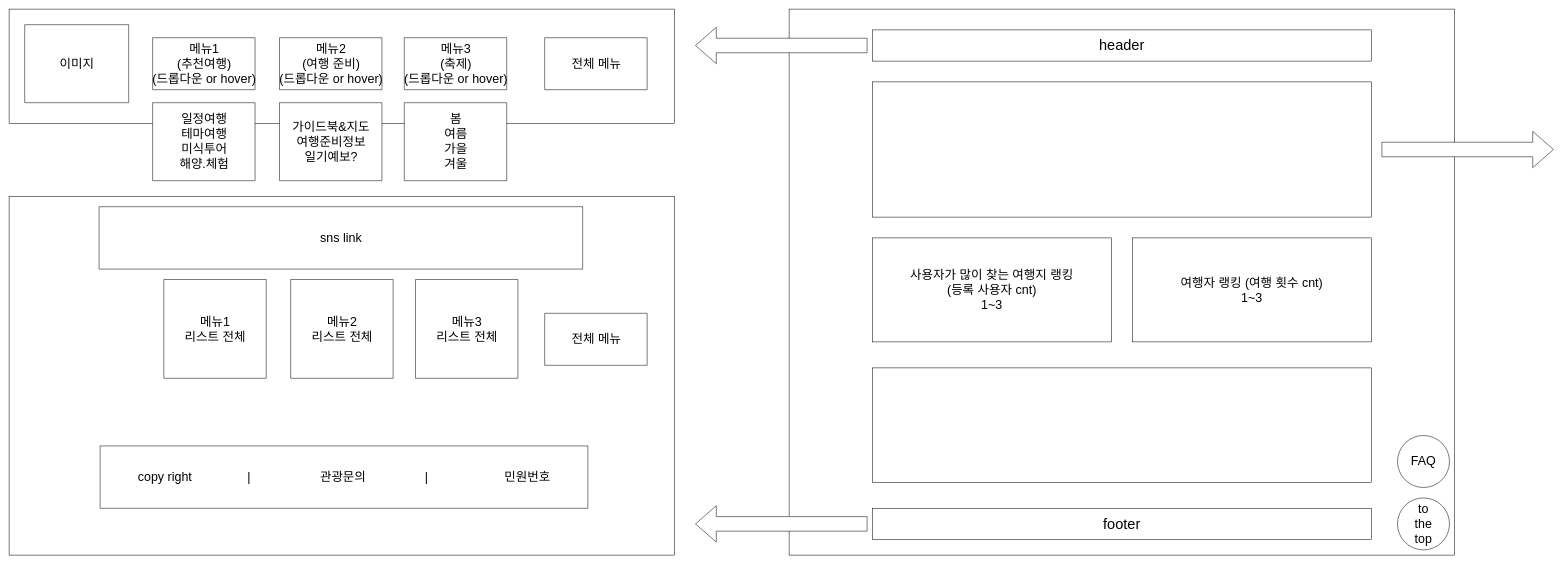
This 1563x564 diagram has some shape labels left out. The shapes that lost their labels are listed below. From the top down, each one's centre as x and y in pixels, then its label:
point (1122, 149): main image 1, 2, 3 ... >
point (1122, 424): 공지사항 (페이징)
